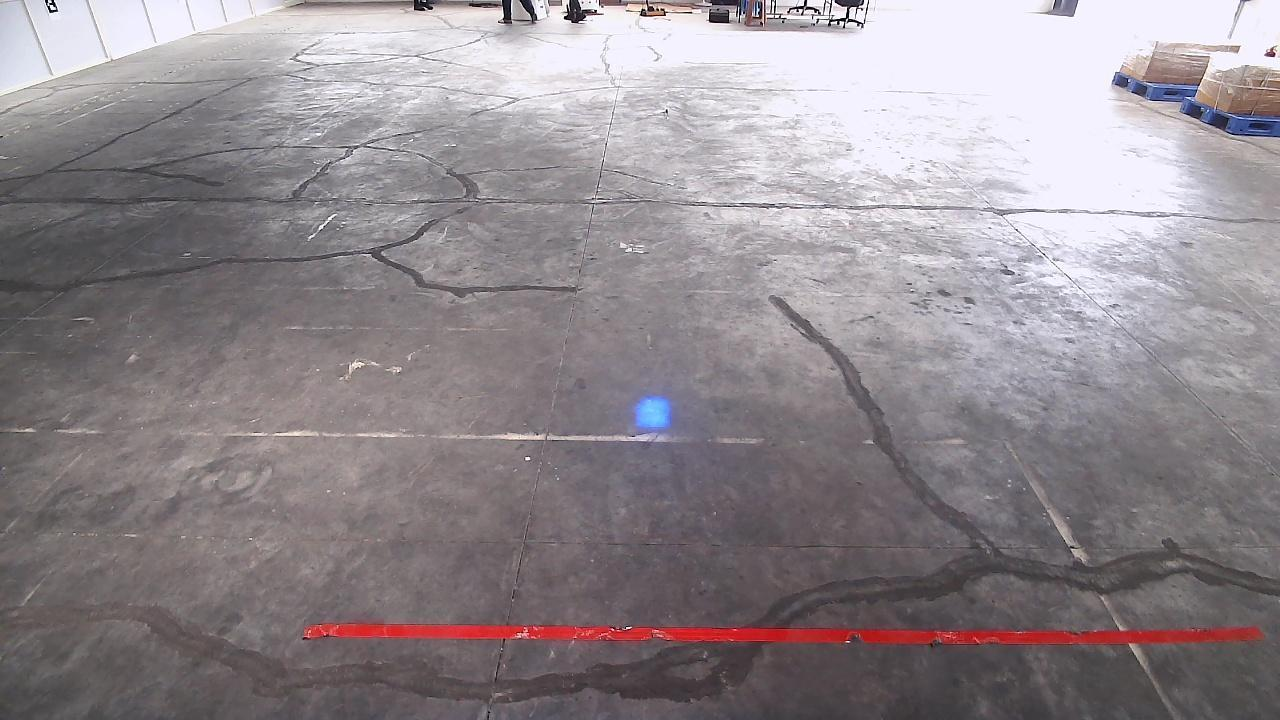red_line: (301, 618, 1260, 647)
